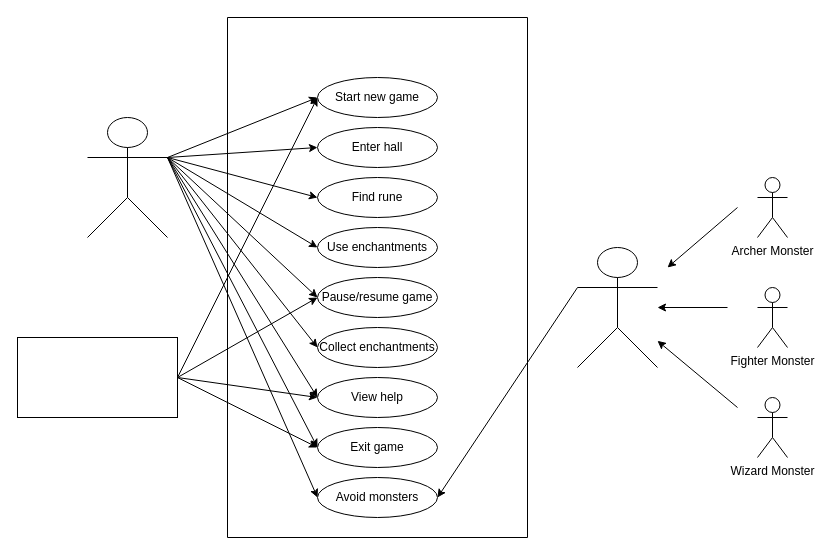
Image size: 832x555. Some labels were removed from this diagram. Each missing label, with the centre of its shape:
"Monsters" goes at point (617, 307).
"Player" goes at point (127, 177).
"Rokue-Like Game" goes at point (377, 277).
"«actor» Game Engine" goes at point (97, 377).
